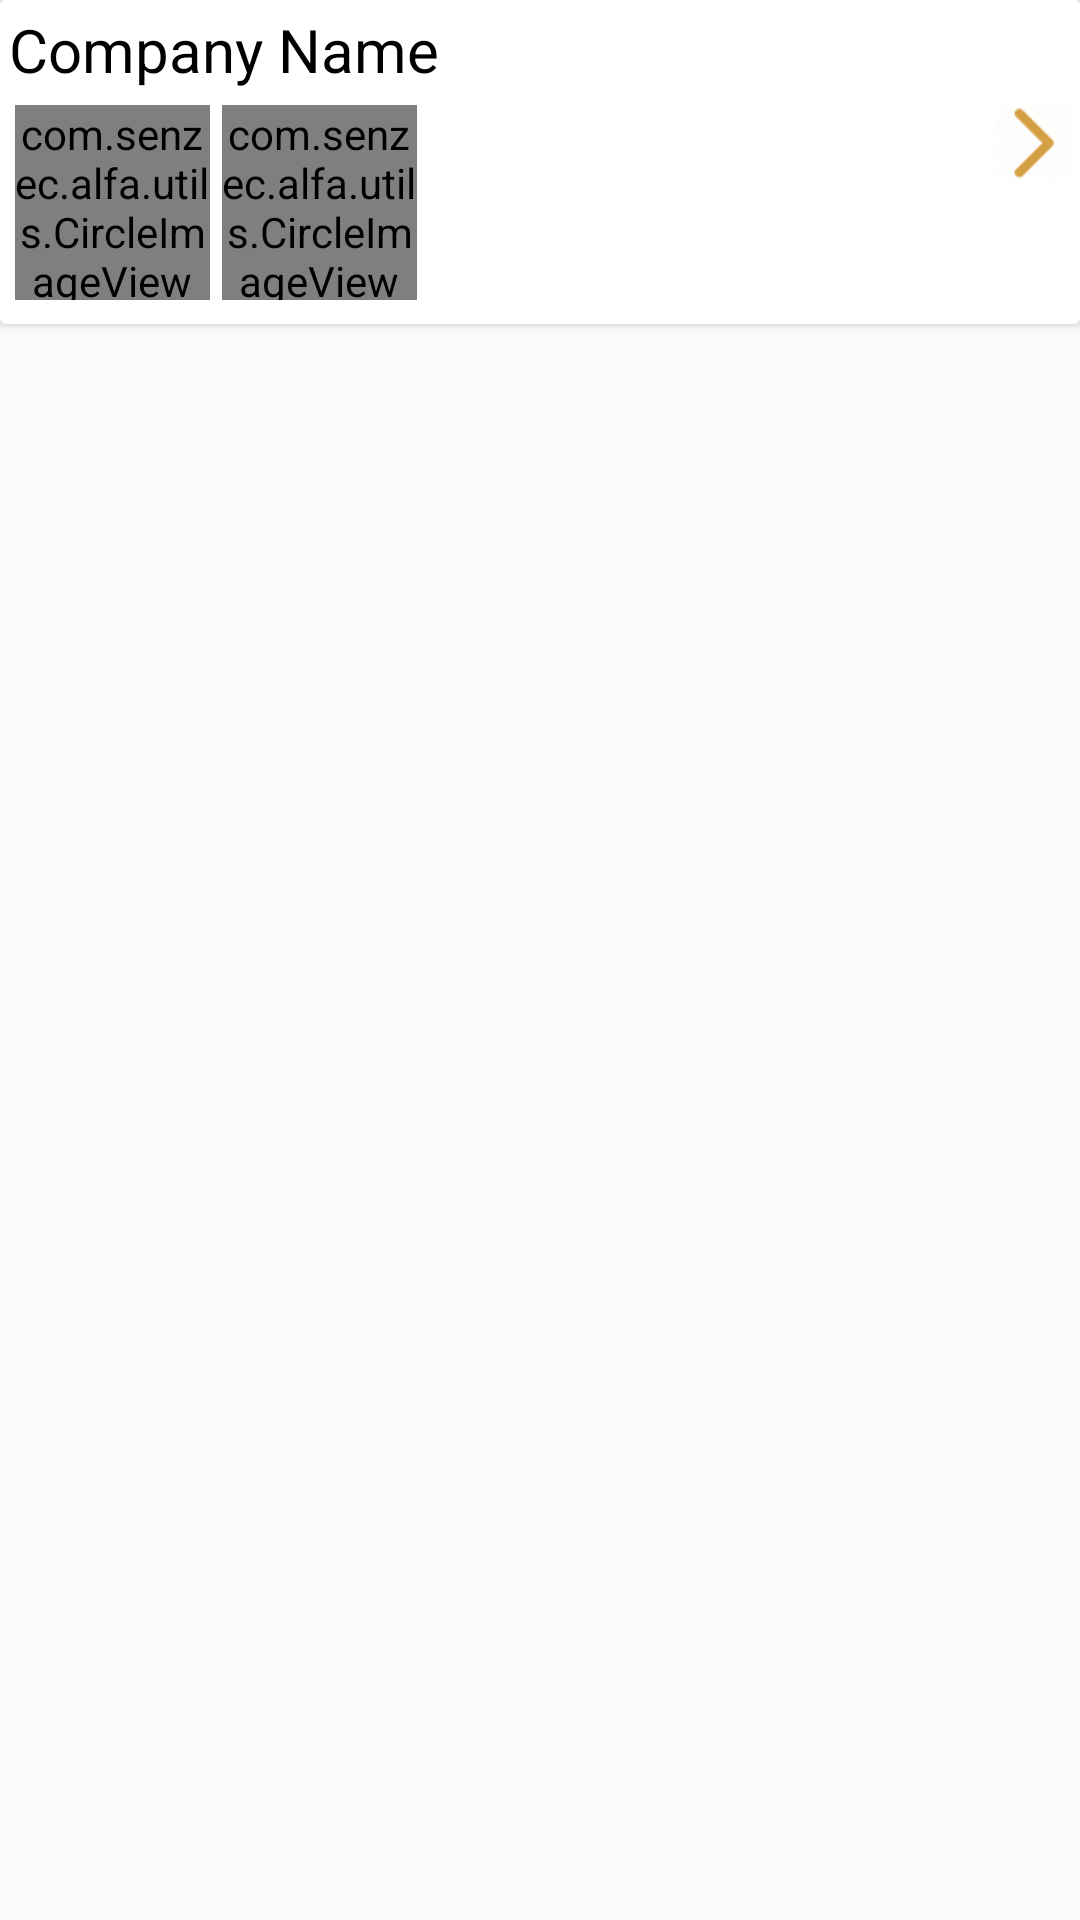

Where icons sit on this 1080 × 1920 app screen, as rect(x1, y1, x2, y2):
right arrow: rect(1014, 108, 1055, 178)
